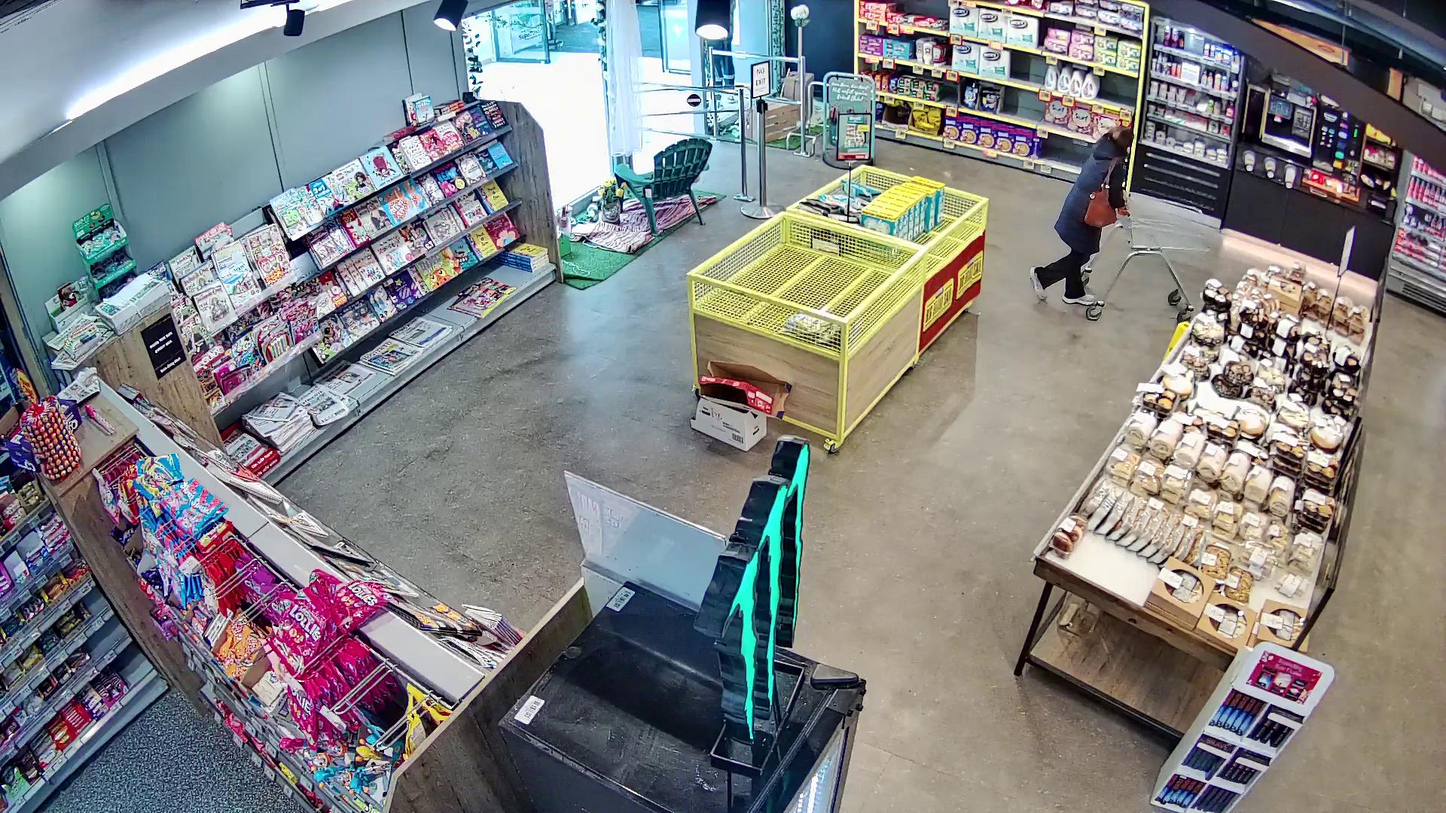backpack-or-handbag: (1085, 188, 1119, 228)
empty-trolly: (1081, 207, 1210, 321)
person: (1029, 126, 1134, 305)
person-with-basket-trolly-and-backpack-handbag: (1029, 125, 1210, 321)
